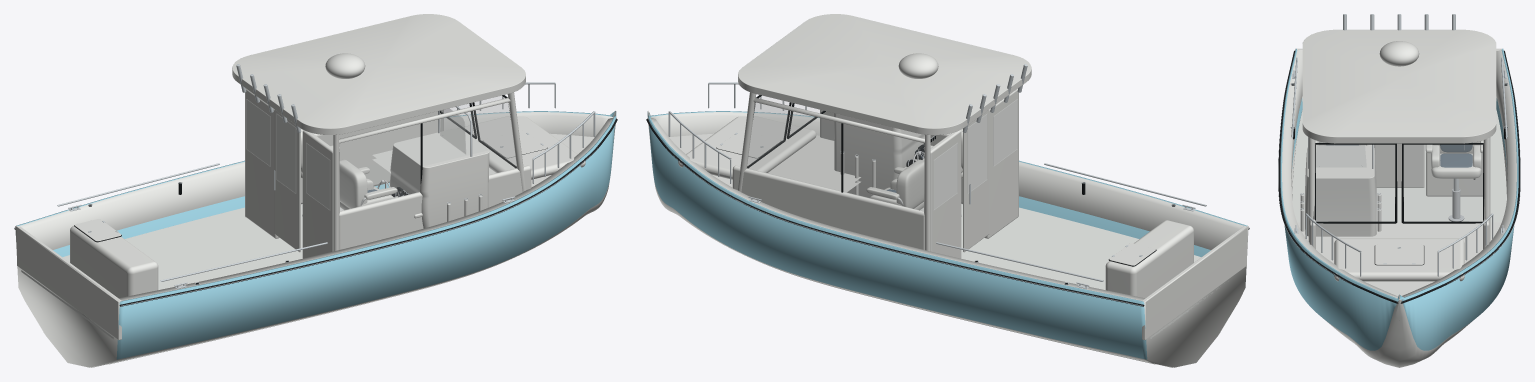
Rendered from Boat_pilothouse.glb.
3 renders of one model, left to right at view 1: azimuth 30°, elevation 25°; view 2: azimuth 150°, elevation 25°; view 3: azimuth 270°, elevation 25°, orthographic.
Visible parts, largest first — view 1: Reference | continuous shaped fiberglass hull.006, Reference | molded cabin roof, Reference | Parker side glazing, Reference | shaped gunwale cap and inner liner.013, Reference | continuous nonskid cockpit sole.006, Reference | contoured fiberglass console.004, Reference | Parker cabin lower side wall, Reference | integrated transom liner.006, Reference | transom bait/livewell station, Reference | aft cabin wall.001, Reference | aft cabin wall, Reference | aft central sliding door (+18 smaller); view 2: Reference | continuous shaped fiberglass hull.006, Reference | molded cabin roof, Reference | Parker side glazing.001, Reference | shaped gunwale cap and inner liner.012, Reference | continuous nonskid cockpit sole.006, Reference | Parker cabin lower side wall.001, Reference | integrated transom liner.006, Reference | contoured fiberglass console.004, Reference | transom bait/livewell station, Reference | aft cabin wall, Reference | aft cabin wall.001, Reference | cabin forward raised deck (+17 smaller); view 3: Reference | molded cabin roof, Reference | continuous shaped fiberglass hull.006, Reference | opening front windshield, Reference | opening front windshield.001, Reference | contoured fiberglass console.004, Reference | continuous nonskid cockpit sole.006, Reference | cabin forward raised deck, Reference | fitted raised bow casting deck.006, Reference | shaped gunwale cap and inner liner.012, Reference | shaped gunwale cap and inner liner.013, Reference | aft central sliding door, Reference | clear shaped console windshield.004 (+15 smaller).
Boxes of the visible parts, x1=… form: Reference | continuous shaped fiberglass hull.006: x1=15, y1=111, x2=616, y2=367; Reference | molded cabin roof: x1=232, y1=14, x2=525, y2=134; Reference | Parker side glazing: x1=339, y1=103, x2=516, y2=210; Reference | shaped gunwale cap and inner liner.013: x1=18, y1=112, x2=613, y2=249; Reference | continuous nonskid cockpit sole.006: x1=21, y1=186, x2=376, y2=339; Reference | contoured fiberglass console.004: x1=390, y1=129, x2=489, y2=228; Reference | Parker cabin lower side wall: x1=339, y1=165, x2=531, y2=249; Reference | integrated transom liner.006: x1=17, y1=226, x2=121, y2=340; Reference | transom bait/livewell station: x1=70, y1=226, x2=158, y2=298; Reference | aft cabin wall.001: x1=245, y1=88, x2=279, y2=238; Reference | aft cabin wall: x1=302, y1=130, x2=333, y2=258; Reference | aft central sliding door: x1=274, y1=110, x2=300, y2=252; Reference | continuous shaped fiberglass hull.006: x1=647, y1=111, x2=1248, y2=367; Reference | molded cabin roof: x1=738, y1=14, x2=1031, y2=134; Reference | Parker side glazing.001: x1=747, y1=103, x2=924, y2=210; Reference | shaped gunwale cap and inner liner.012: x1=650, y1=112, x2=1245, y2=249; Reference | continuous nonskid cockpit sole.006: x1=920, y1=204, x2=1217, y2=338; Reference | Parker cabin lower side wall.001: x1=732, y1=165, x2=924, y2=249; Reference | integrated transom liner.006: x1=1142, y1=226, x2=1246, y2=340; Reference | contoured fiberglass console.004: x1=833, y1=113, x2=924, y2=197; Reference | transom bait/livewell station: x1=1105, y1=220, x2=1193, y2=298; Reference | aft cabin wall: x1=984, y1=88, x2=1018, y2=238; Reference | aft cabin wall.001: x1=930, y1=130, x2=961, y2=258; Reference | cabin forward raised deck: x1=678, y1=116, x2=816, y2=179; Reference | molded cabin roof: x1=1302, y1=29, x2=1496, y2=143; Reference | continuous shaped fiberglass hull.006: x1=1280, y1=48, x2=1518, y2=367; Reference | opening front windshield: x1=1316, y1=145, x2=1394, y2=221; Reference | opening front windshield.001: x1=1404, y1=145, x2=1482, y2=221; Reference | contoured fiberglass console.004: x1=1305, y1=145, x2=1376, y2=236; Reference | continuous nonskid cockpit sole.006: x1=1292, y1=110, x2=1506, y2=222; Reference | cabin forward raised deck: x1=1334, y1=238, x2=1464, y2=281; Reference | fitted raised bow casting deck.006: x1=1297, y1=222, x2=1501, y2=320; Reference | shaped gunwale cap and inner liner.012: x1=1282, y1=49, x2=1397, y2=298; Reference | shaped gunwale cap and inner liner.013: x1=1401, y1=49, x2=1516, y2=299; Reference | aft central sliding door: x1=1374, y1=143, x2=1424, y2=187; Reference | clear shaped console windshield.004: x1=1316, y1=141, x2=1366, y2=167.
Bounding box in the file's own units: 7.63 × 3.18 × 2.94.
